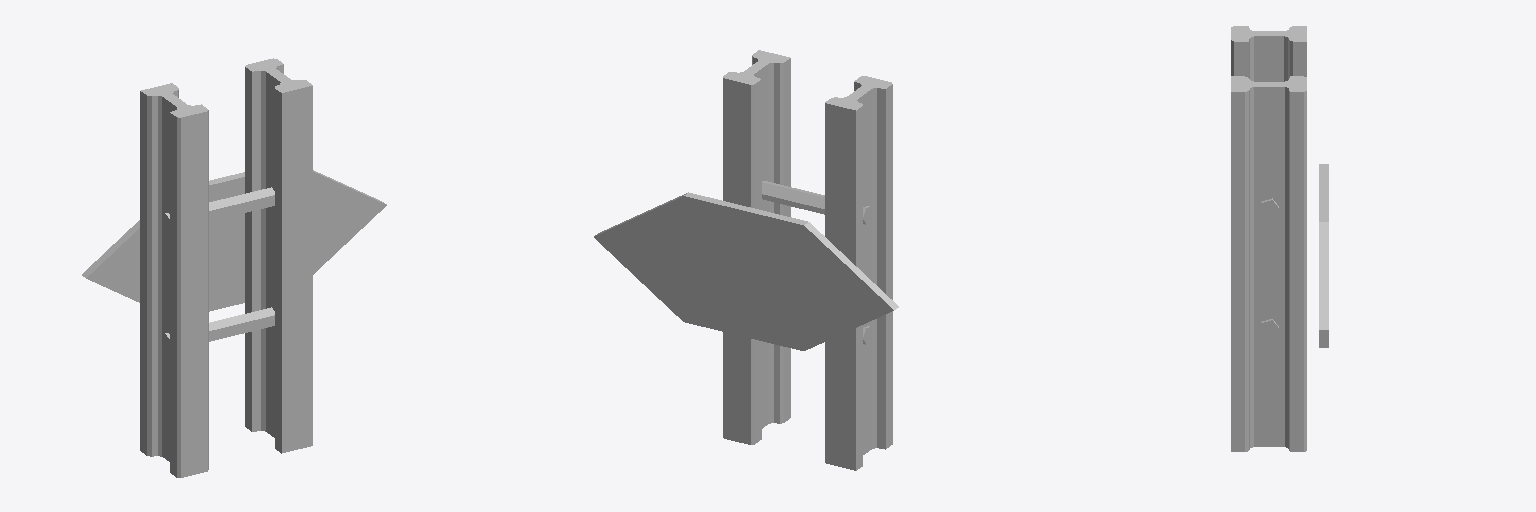
The model's file is lms_post_rail_55.obj.
3 views of the same model, side by side, from view 1: azimuth 30°, elevation 25°; view 2: azimuth 150°, elevation 25°; view 3: azimuth 270°, elevation 25° (orthographic).
Visible parts, largest first — view 1: Rail_55_plate_Cube.042; view 2: Rail_55_plate_Cube.042; view 3: Rail_55_plate_Cube.042.
Part boxes in pixels (left/top/right/bottom): Rail_55_plate_Cube.042: left=82, top=58, right=386, bottom=477; Rail_55_plate_Cube.042: left=594, top=50, right=898, bottom=470; Rail_55_plate_Cube.042: left=1231, top=26, right=1328, bottom=451.
Bounding box in the file's own units: 0.875 × 1 × 0.244.